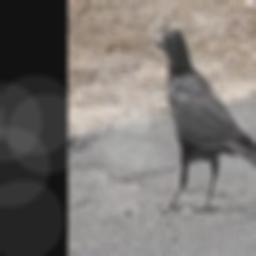Crow: (155, 26, 256, 214)
